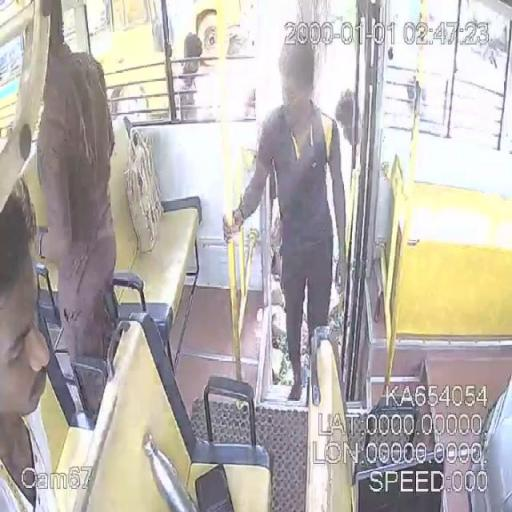persona: (222, 36, 350, 402), (0, 176, 59, 511)
